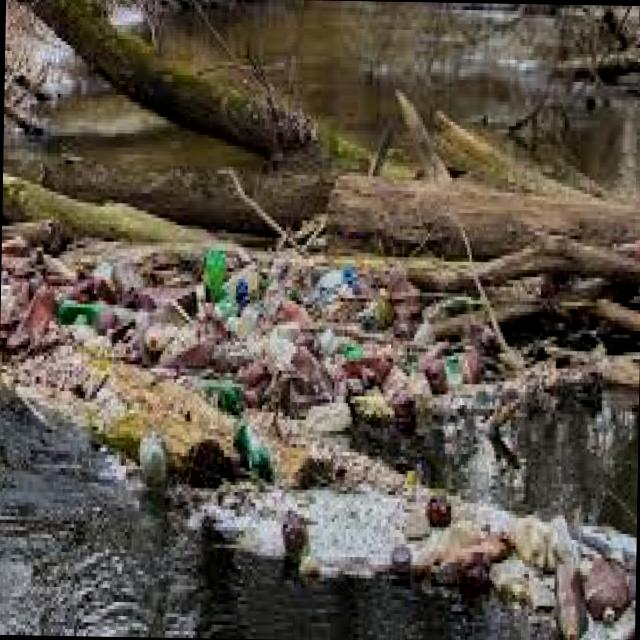garbage: (30, 234, 640, 640)
